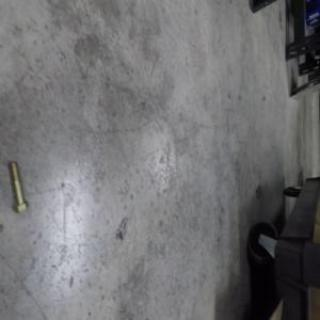Bolttrack_idkeyframe: (8, 156, 28, 212)
